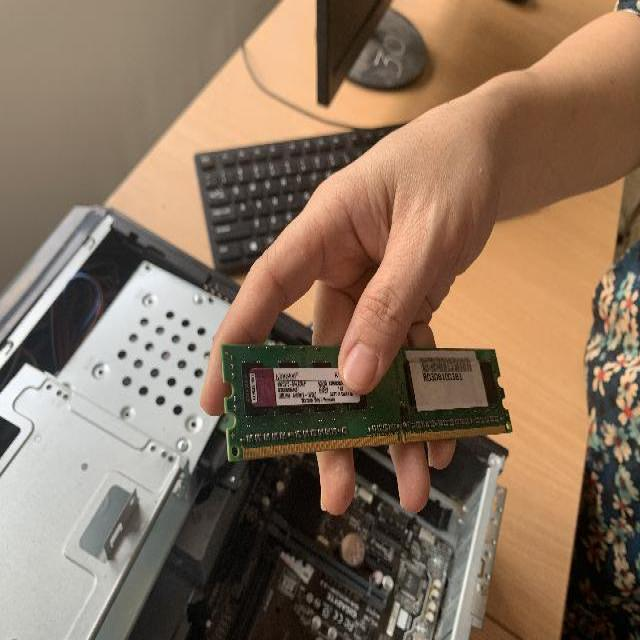RAM: (218, 336, 514, 464)
